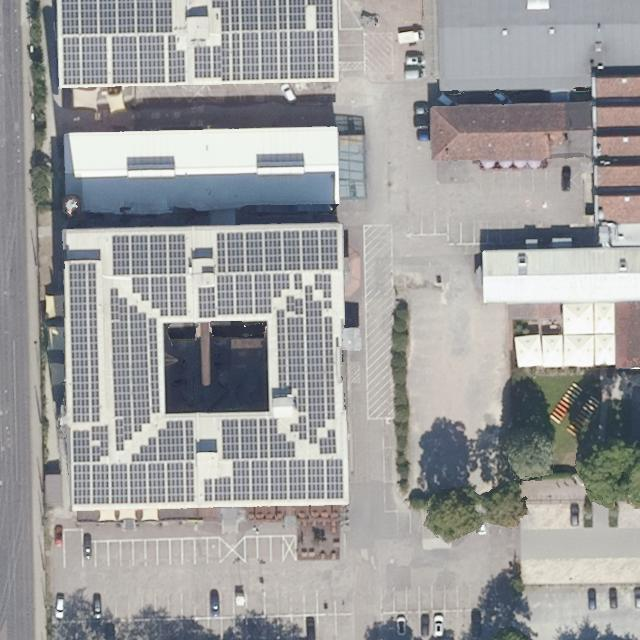PV: (193, 0, 337, 83), (109, 285, 162, 453), (203, 457, 346, 504), (304, 283, 337, 446), (197, 273, 292, 321), (61, 0, 172, 34), (276, 307, 308, 413), (113, 234, 187, 274), (130, 419, 197, 462), (129, 275, 189, 319), (72, 424, 110, 464), (313, 272, 334, 298), (318, 429, 338, 456), (288, 415, 308, 441)
